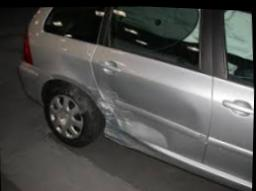Door: (94, 40, 216, 170)
